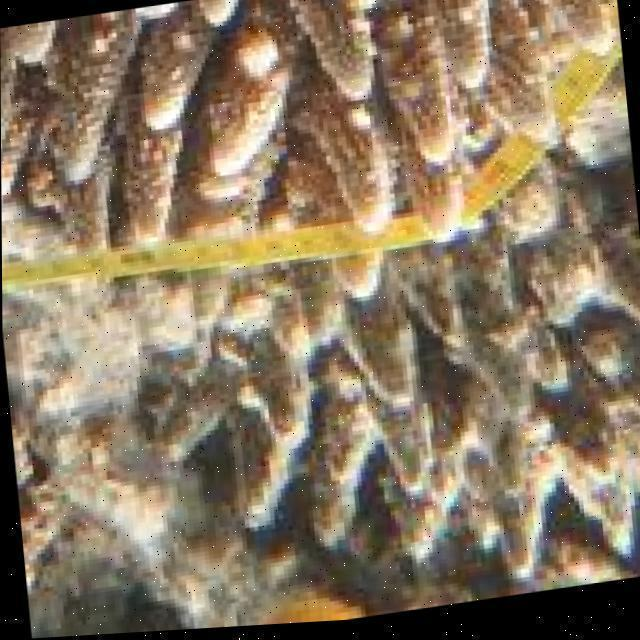Healthy Coral: (0, 0, 606, 293)
